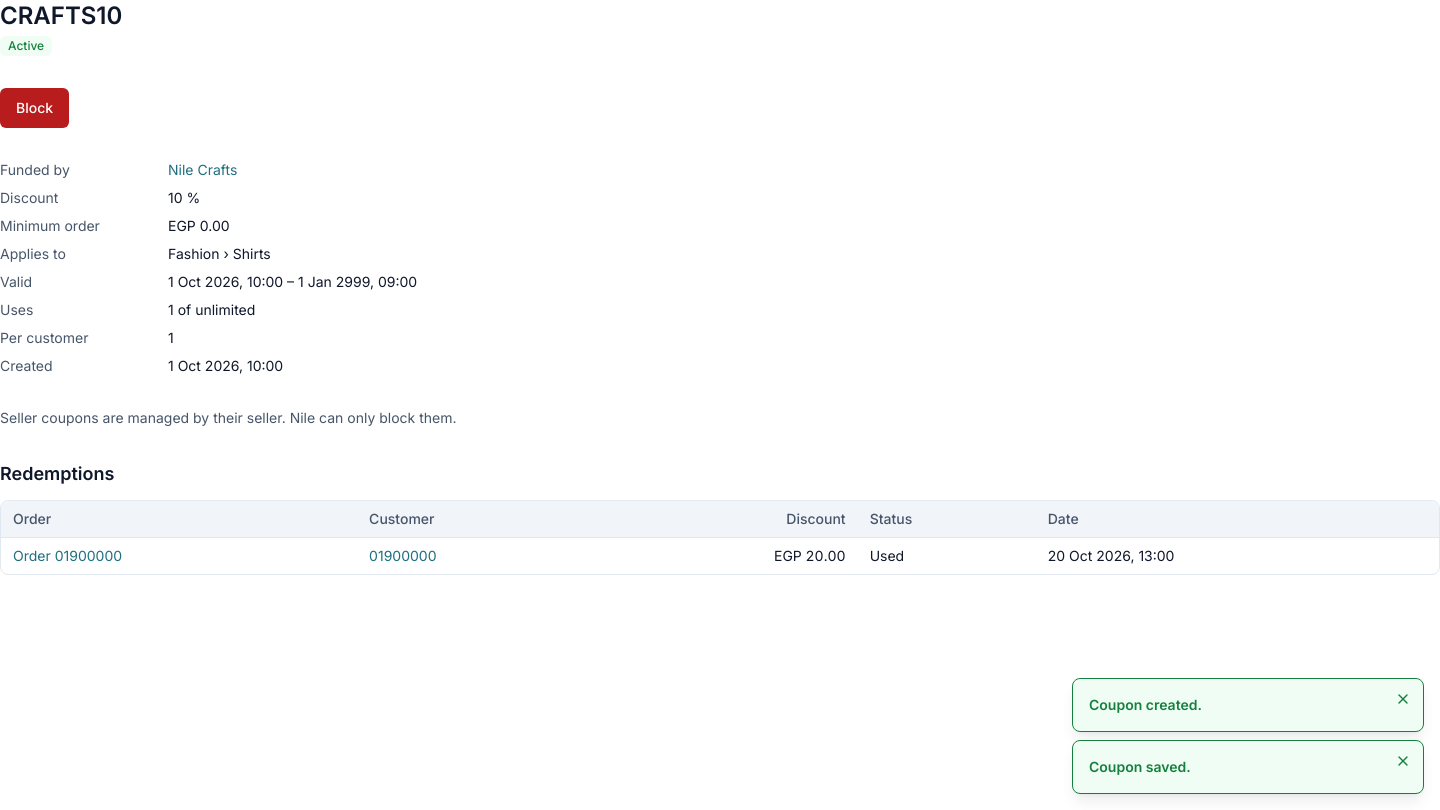
coupon (spec 03 AD-37, T-M9) › a seller coupon: read-only with its redemptions; Block needs a reason
The width and height of the screenshot is (1440, 810).
Expected: the heading "CRAFTS10" is shown, top-left (0, 0), bottom-right (122, 32)
Expected: the text "Seller coupons are managed by their seller. Nile can only block them." is shown, top-left (0, 409), bottom-right (456, 426)
Click the button "Block": (35, 108) top-left (0, 88), bottom-right (69, 128)
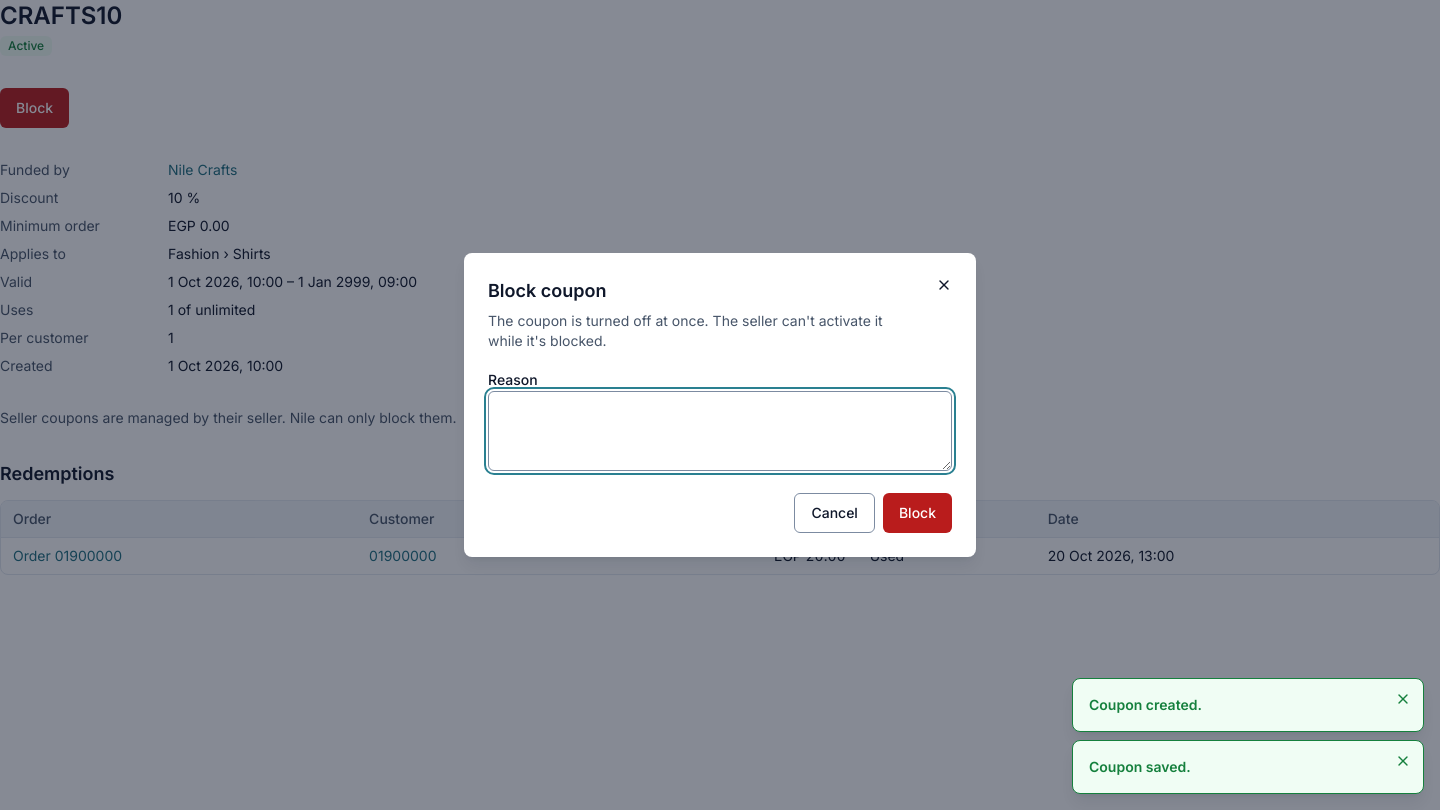
Result: the text "The coupon is turned off at once. The seller can't activate it while it's blocked." is shown at top-left (488, 312), bottom-right (883, 349)
Click the button "Block": (917, 513) top-left (883, 493), bottom-right (952, 533)
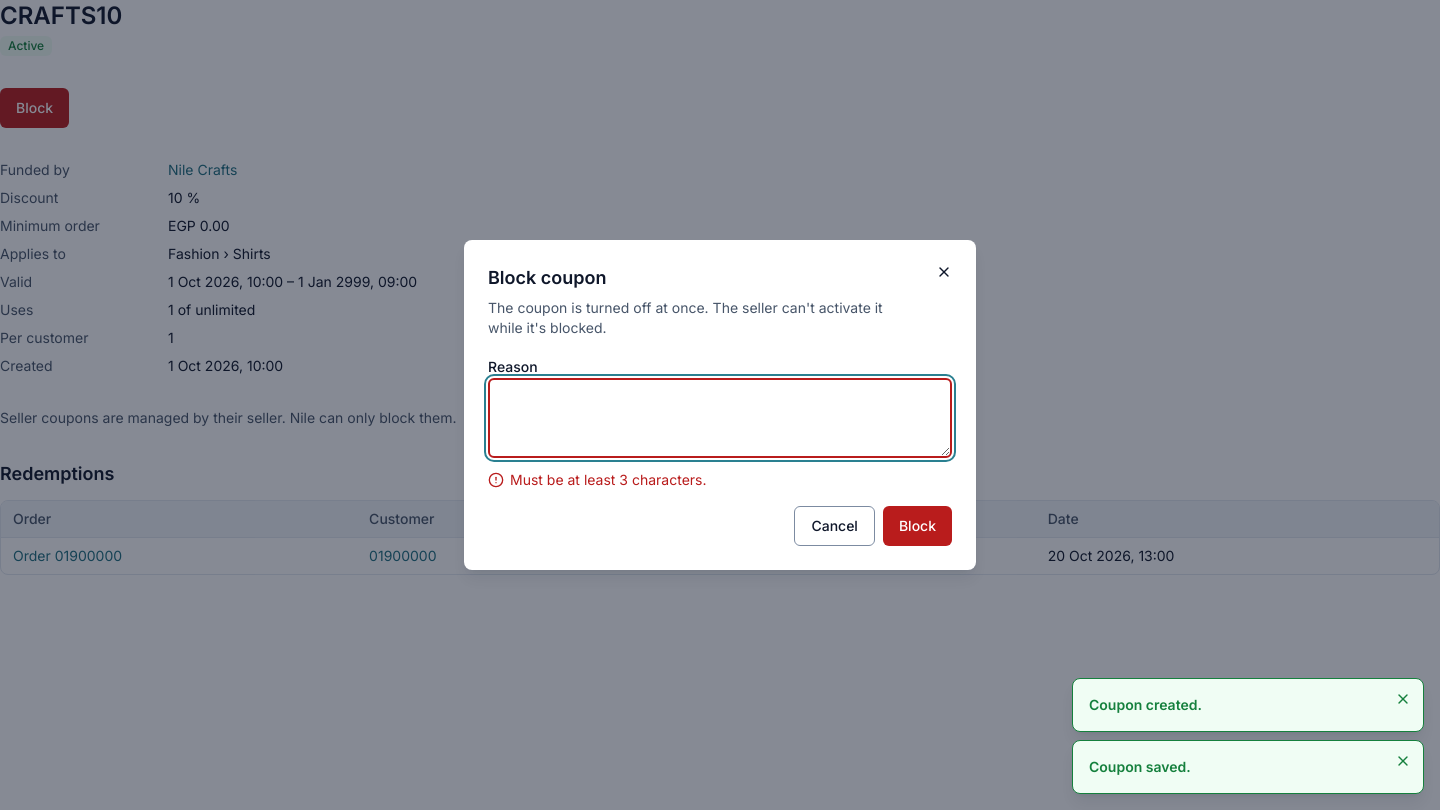
Result: the text "Must be at least 3 characters." is shown at top-left (488, 471), bottom-right (706, 488)
In the text box labelled "Reason": (720, 418) top-left (488, 378), bottom-right (952, 458), type " Misleading code "
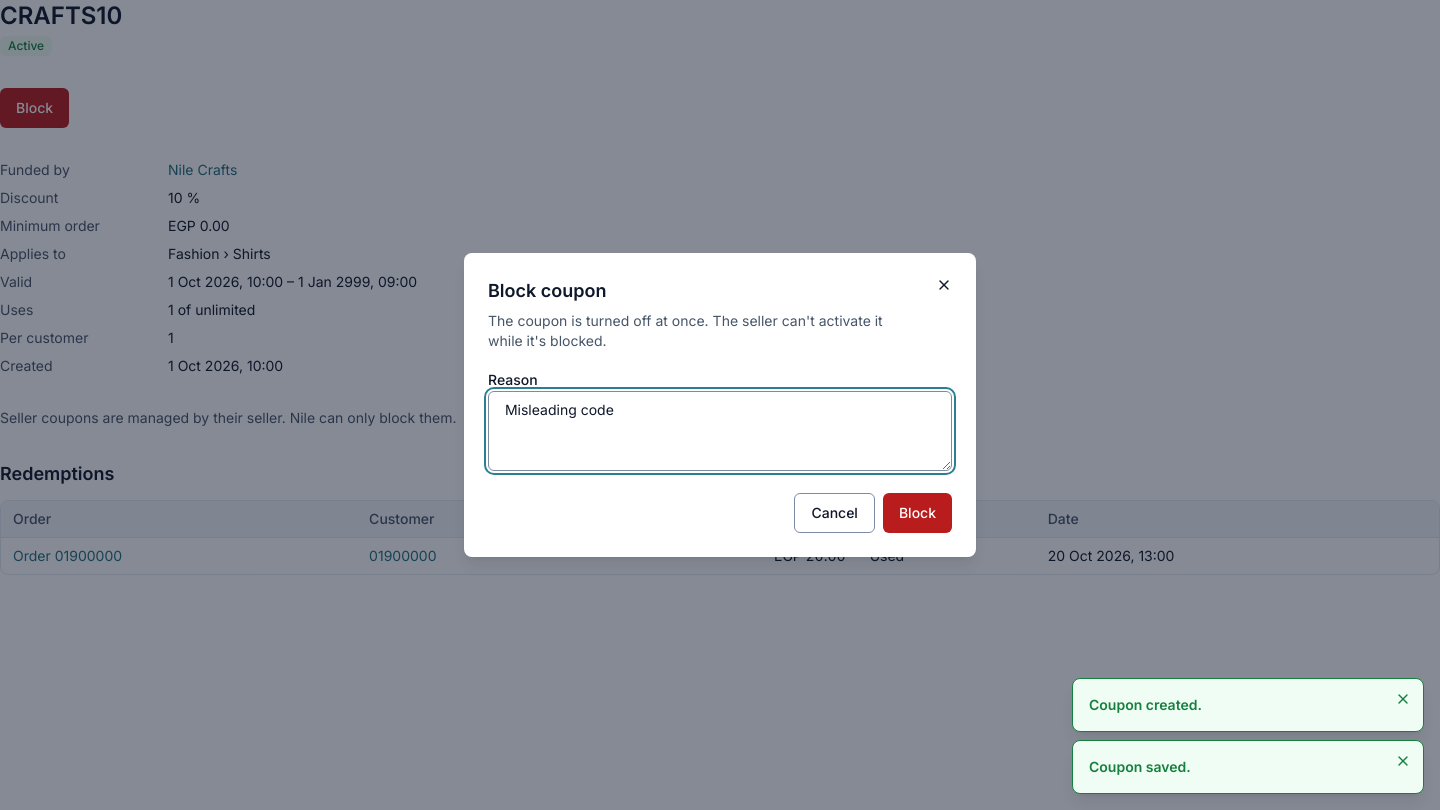
Click the button "Block": (917, 513) top-left (883, 493), bottom-right (952, 533)
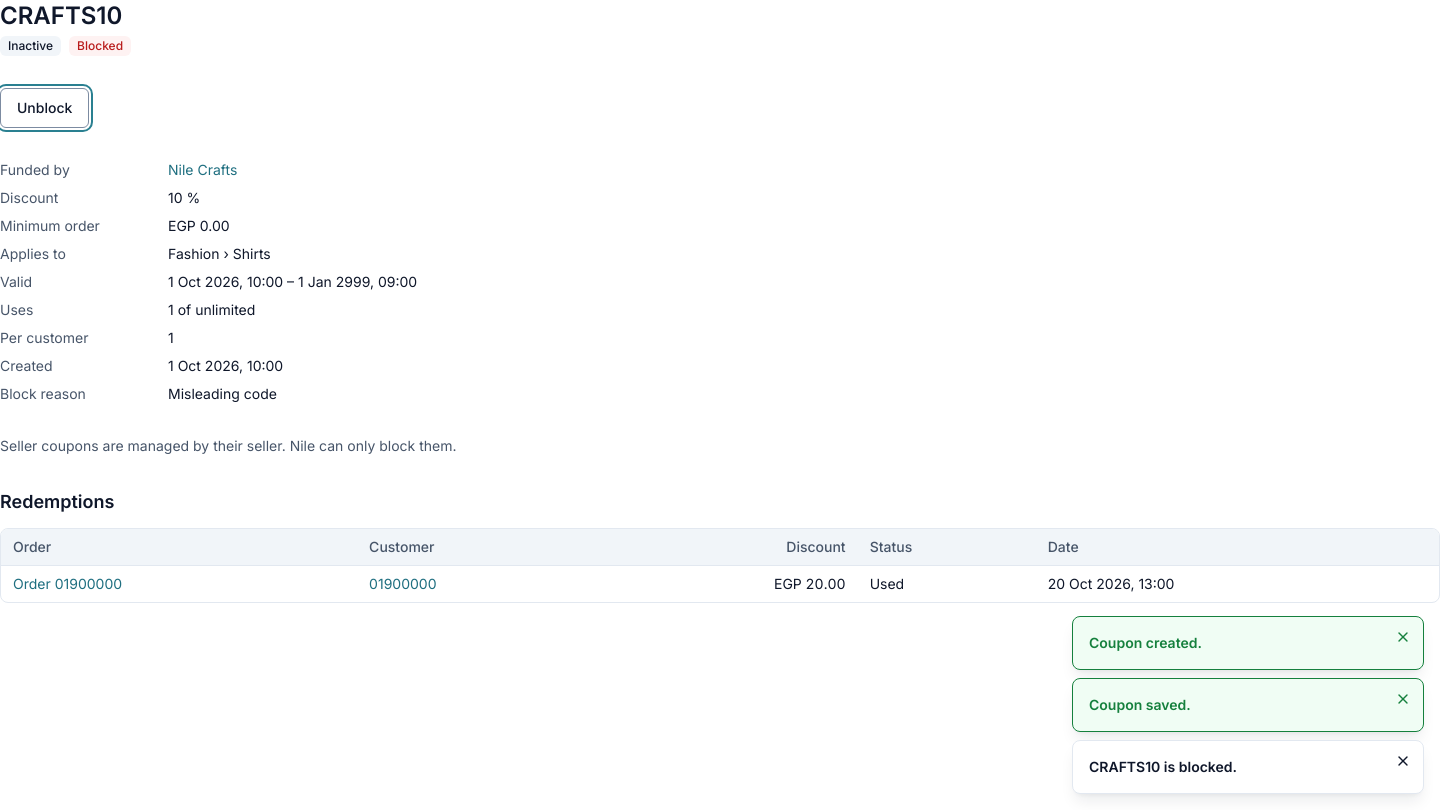
Result: the text "CRAFTS10 is blocked." is shown at top-left (1089, 758), bottom-right (1237, 775)
Result: the text "Misleading code" is shown at top-left (168, 385), bottom-right (277, 402)
Result: the button "Unblock" is shown at top-left (0, 88), bottom-right (89, 128)
